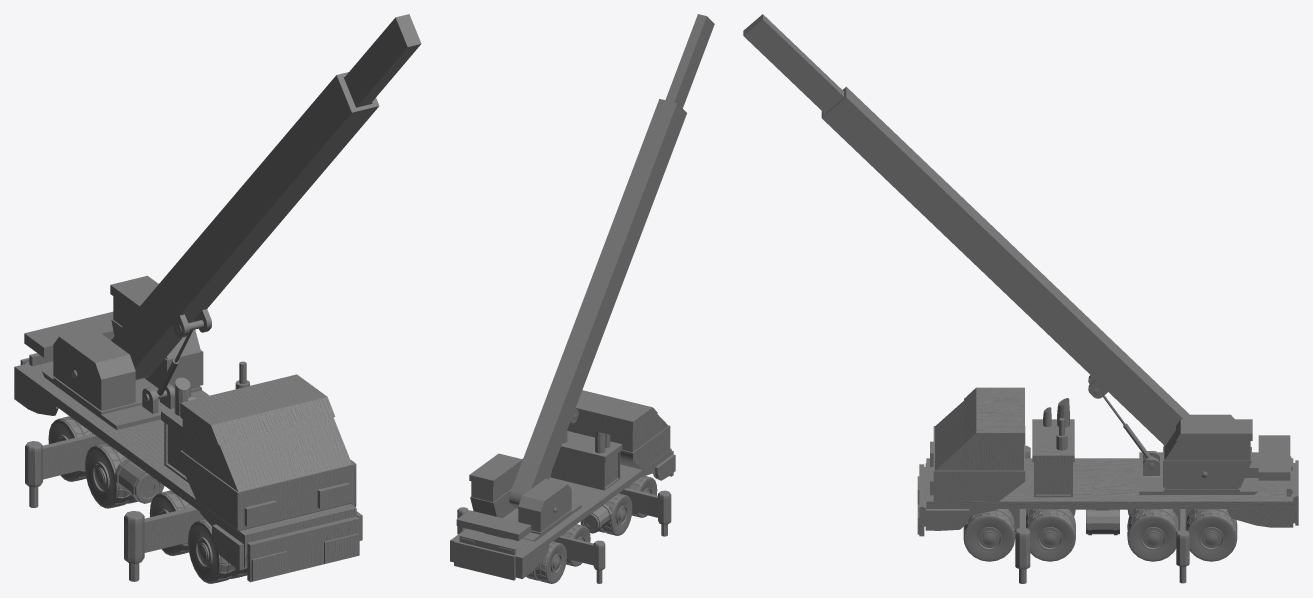
File: CraneUV.obj
3 renders of one model, left to right at view 1: azimuth 30°, elevation 25°; view 2: azimuth 150°, elevation 25°; view 3: azimuth 270°, elevation 25°, orthographic. The views are drawn at different scales.
Parts seen in each view (by area): view 1: pCylinder43, pCylinder42, pCylinder6, pCylinder8, pCylinder5, pCylinder7; view 2: pCylinder42, pCylinder43, pCylinder5, pCylinder7, pCylinder8, pCylinder6; view 3: pCylinder42, pCylinder43, pCylinder12, pCylinder10, pCylinder16, pCylinder14.
Boxes of the visible parts, x1=… form: pCylinder43: x1=14, y1=353, x2=362, y2=582; pCylinder42: x1=24, y1=14, x2=421, y2=429; pCylinder6: x1=85, y1=443, x2=131, y2=508; pCylinder8: x1=188, y1=519, x2=235, y2=583; pCylinder5: x1=48, y1=416, x2=91, y2=481; pCylinder7: x1=149, y1=490, x2=192, y2=555; pCylinder42: x1=456, y1=14, x2=714, y2=541; pCylinder43: x1=450, y1=390, x2=675, y2=583; pCylinder5: x1=535, y1=541, x2=566, y2=583; pCylinder7: x1=602, y1=493, x2=632, y2=535; pCylinder8: x1=628, y1=476, x2=657, y2=517; pCylinder6: x1=562, y1=524, x2=590, y2=566; pCylinder42: x1=743, y1=14, x2=1290, y2=494; pCylinder43: x1=917, y1=387, x2=1298, y2=583; pCylinder12: x1=1127, y1=509, x2=1178, y2=561; pCylinder10: x1=1186, y1=509, x2=1237, y2=561; pCylinder16: x1=963, y1=510, x2=1015, y2=561; pCylinder14: x1=1026, y1=509, x2=1075, y2=561.
Size of the model in its own units: 332 by 914 by 877.
